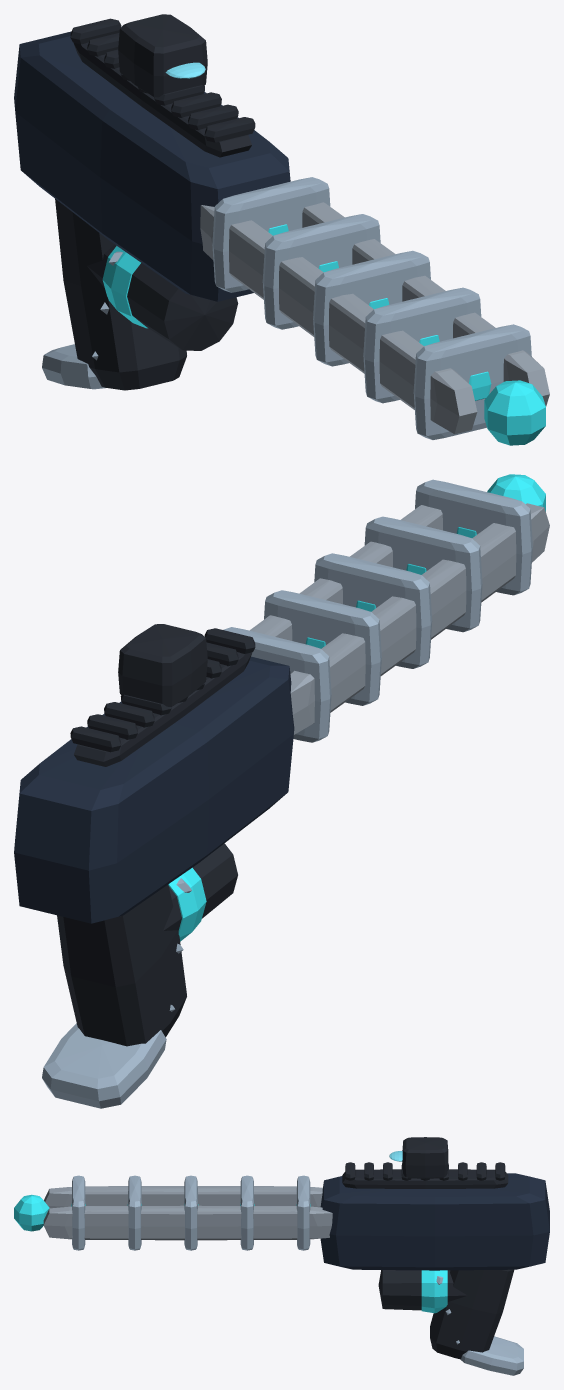
File: g-heavy-4.glb
3 renders of one model, top to bottom at view 1: azimuth 30°, elevation 25°; view 2: azimuth 150°, elevation 25°; view 3: azimuth 270°, elevation 25°, orthographic. The views are drawn at different scales.
Parts seen in each view (by area): view 1: gun; view 2: gun; view 3: gun.
Boxes of the visible parts, x1,y1,x2,y2 form: gun: (14,14,549,445); gun: (14,474,549,1108); gun: (14,1137,549,1375).
Size of the model in its own units: 0.16 by 0.5286 by 1.14.
